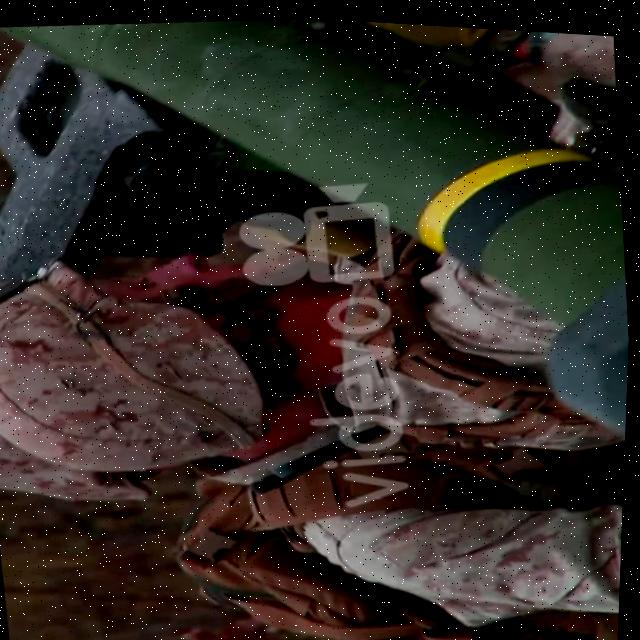rocket: (14, 1, 640, 518)
